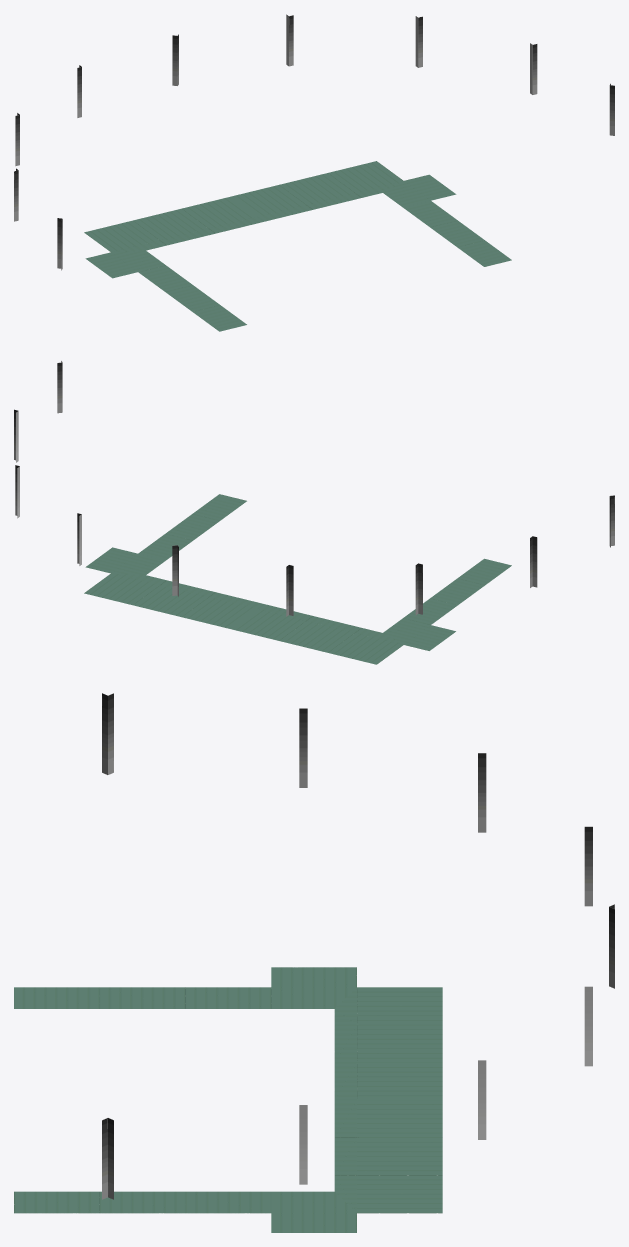
3 views of the same model, one above another, from view 1: azimuth 30°, elevation 25°; view 2: azimuth 150°, elevation 25°; view 3: azimuth 270°, elevation 25° (orthographic). The views are drawn at different scales.
Size of the model in its own units: 182 by 38.35 by 108.
Materials: 2 (2 with a texture image).
